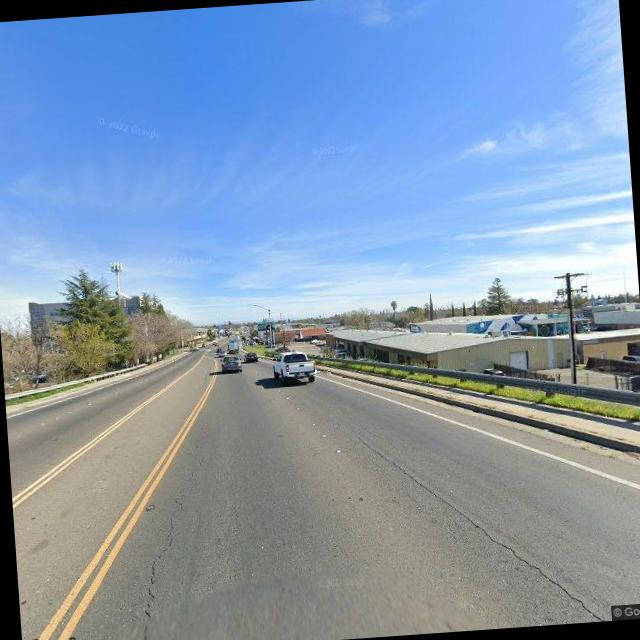crack: (356, 419, 610, 634), (126, 483, 192, 640)
